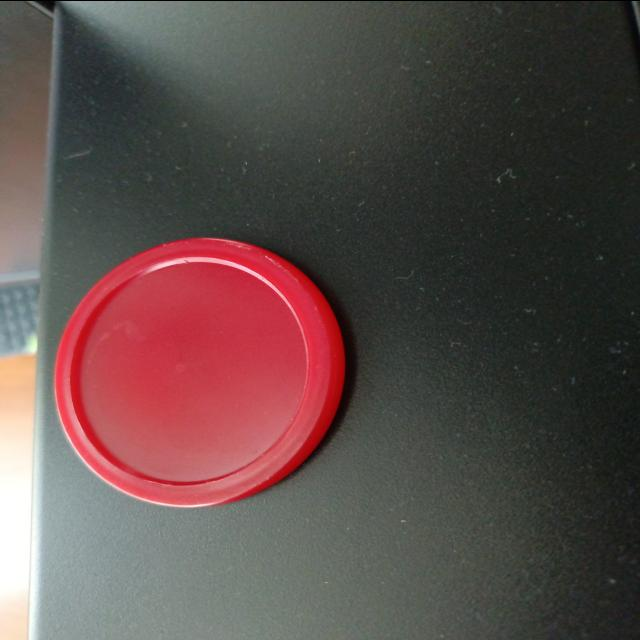chip: (50, 232, 353, 510)
